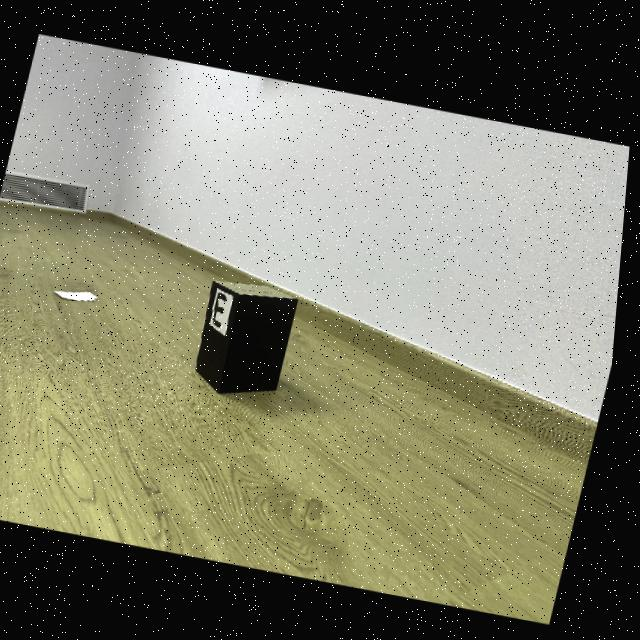E: (218, 292, 232, 327)
